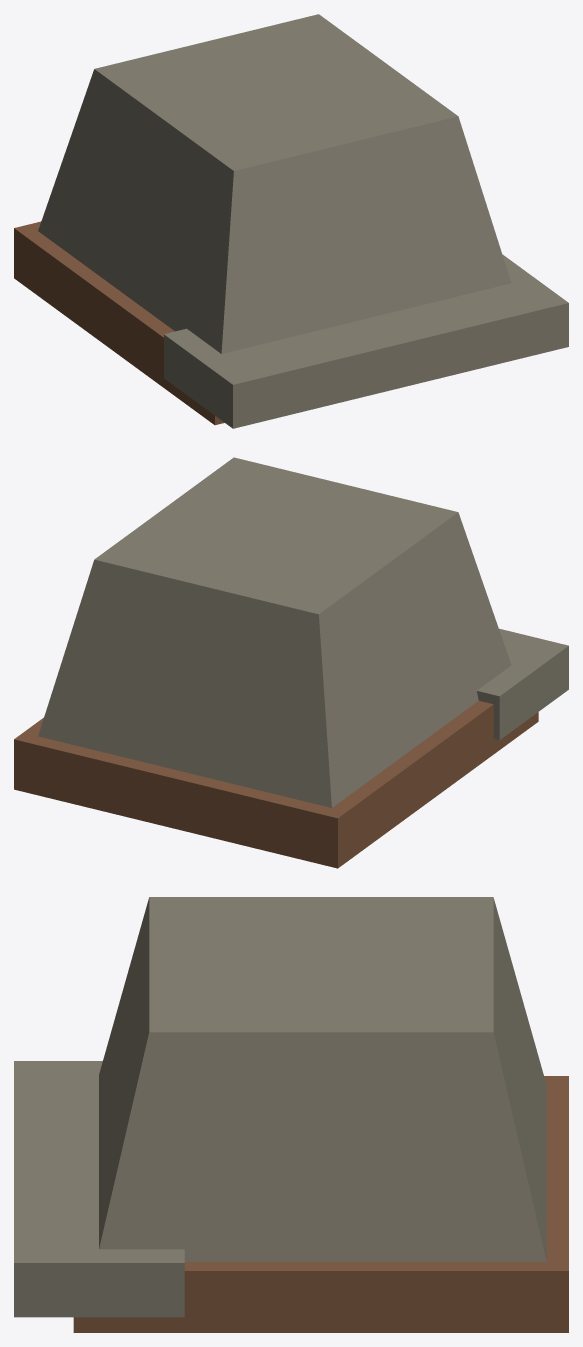
The model's file is item_armour_head_light.glb.
The picture shows the model from 3 angles, top to bottom: view 1: azimuth 30°, elevation 25°; view 2: azimuth 150°, elevation 25°; view 3: azimuth 270°, elevation 25°; orthographic projection. The views are drawn at different scales.
Visible parts, largest first — view 1: cap, brim, band; view 2: cap, band, brim; view 3: cap, band, brim.
Boxes of the visible parts, x1=… form: cap: x1=38, y1=14, x2=511, y2=353; brim: x1=164, y1=254, x2=568, y2=428; band: x1=14, y1=221, x2=224, y2=425; cap: x1=38, y1=457, x2=511, y2=807; band: x1=14, y1=701, x2=538, y2=868; brim: x1=477, y1=628, x2=568, y2=740; cap: x1=99, y1=897, x2=546, y2=1261; band: x1=73, y1=1076, x2=568, y2=1332; brim: x1=14, y1=1061, x2=184, y2=1317.
Size of the model in its own units: 0.56 by 0.35 by 0.65.
